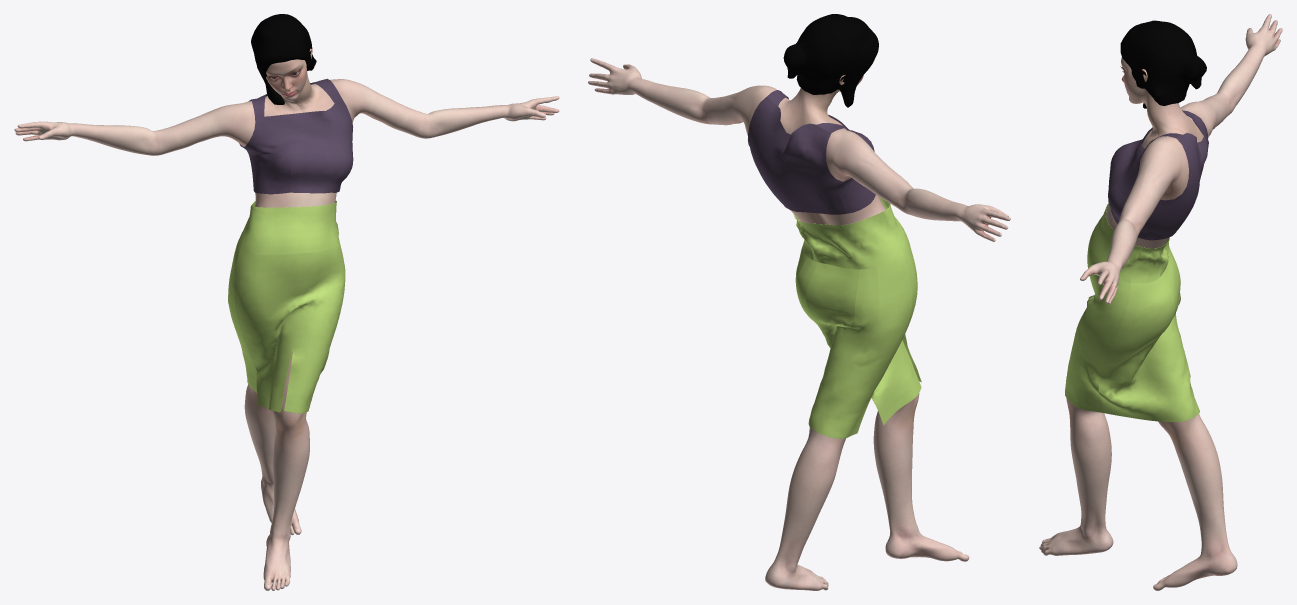
The model's file is random.obj.
The picture shows the model from 3 angles, left to right: view 1: azimuth 30°, elevation 25°; view 2: azimuth 150°, elevation 25°; view 3: azimuth 270°, elevation 25°; orthographic projection. The views are drawn at different scales.
Bounding box in the file's own units: 1601 × 1717 × 679.
